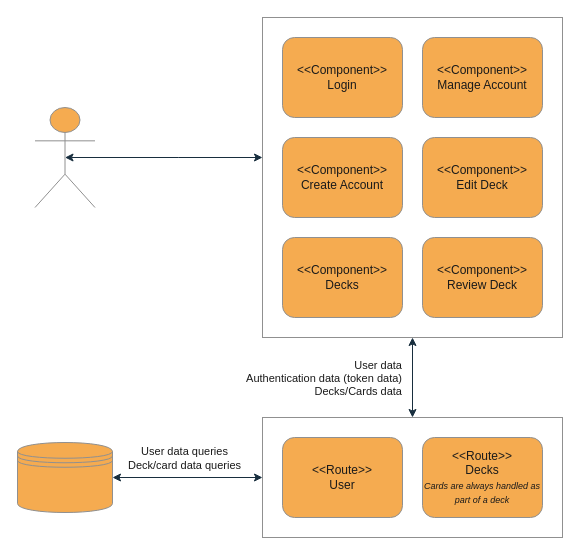
The diagram is 580 pixels wide and 555 high, and some of its shapes have lost their labels. The shapes that lost their labels are listed below. From the top down, each one's centre as x and y in pixels, then its label:
the point at 64,157: Actor
the point at 64,477: Database MongoDB
